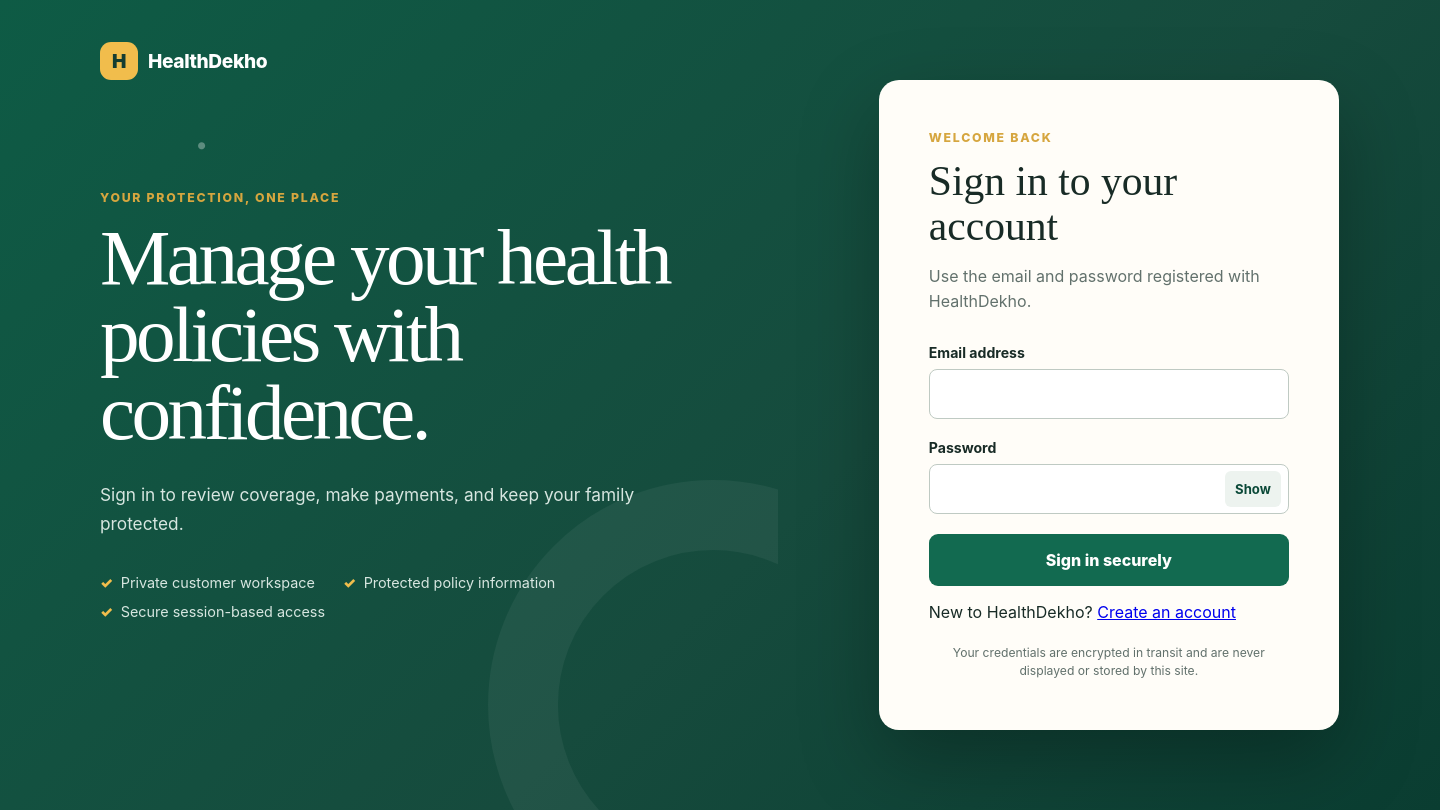
sign in › announces and disables the submit control while sign-in is pending
This screenshot has width=1440, height=810.
Later steps or results of the test are not shown.
Type "customer@example.com" into the field labelled "Email address" at (1109, 394), box left=929, top=369, right=1289, bottom=419
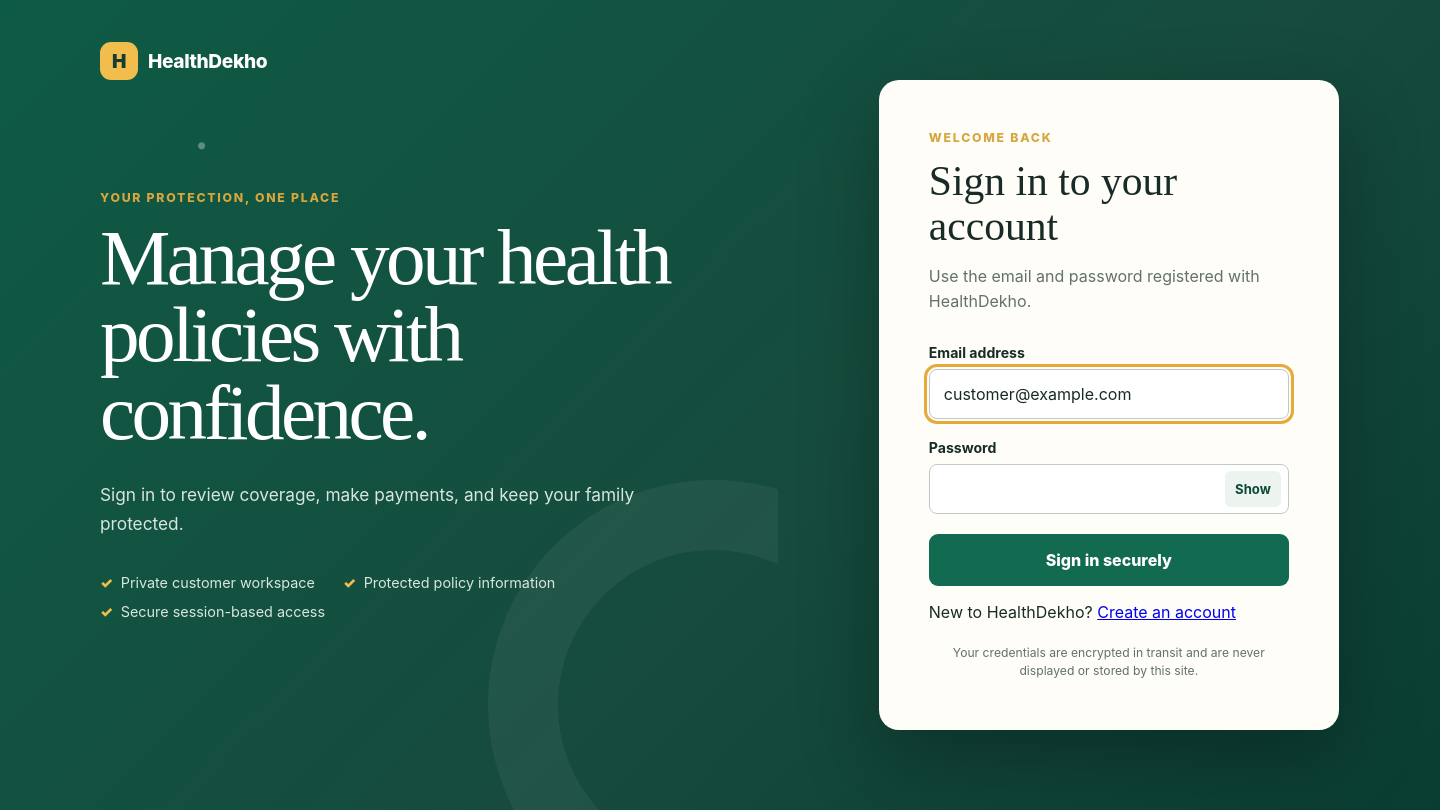
Type "valid password" into the password field labelled "Password" at (1109, 489), box left=929, top=464, right=1289, bottom=514
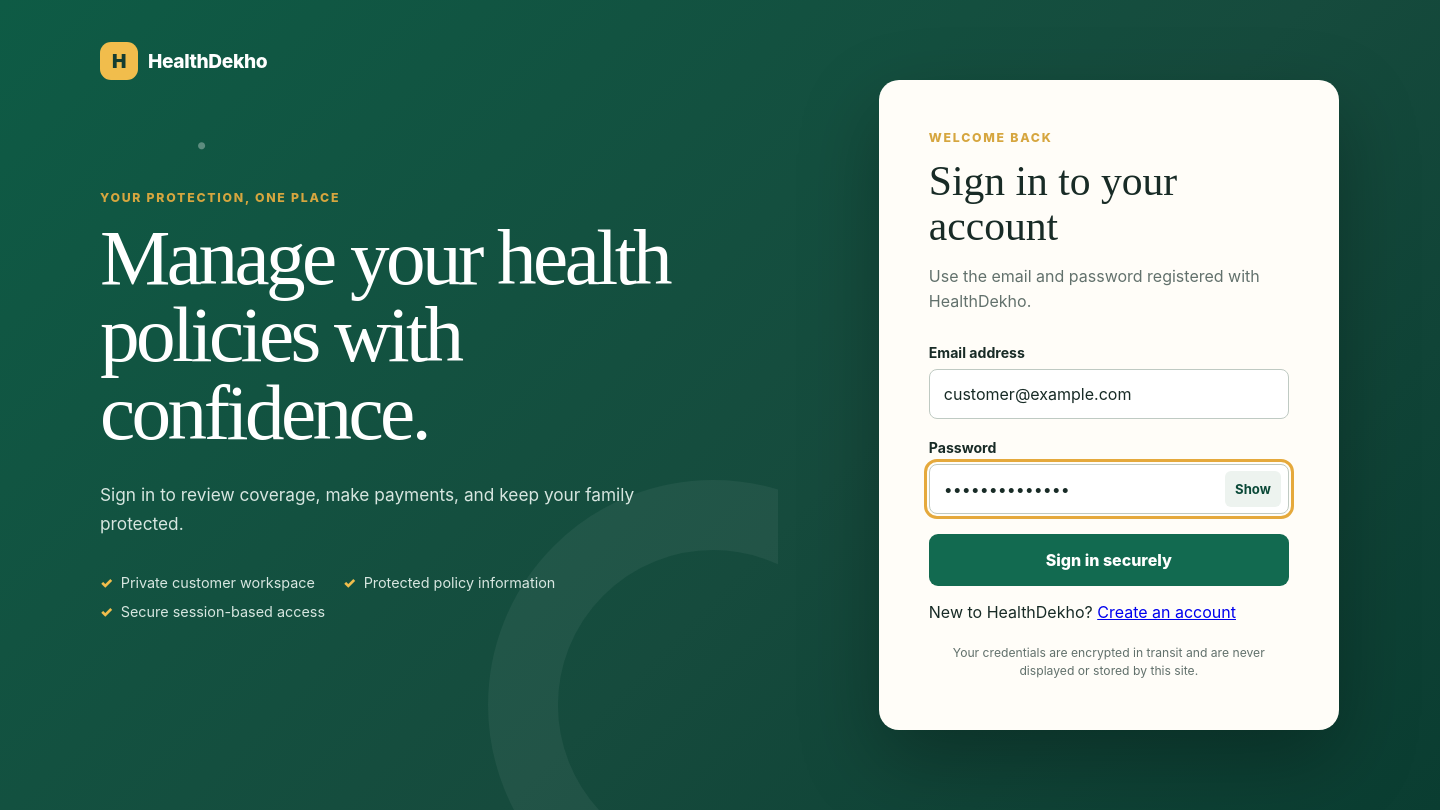
Click the button "Sign in securely" at (1109, 560), box left=929, top=534, right=1289, bottom=586
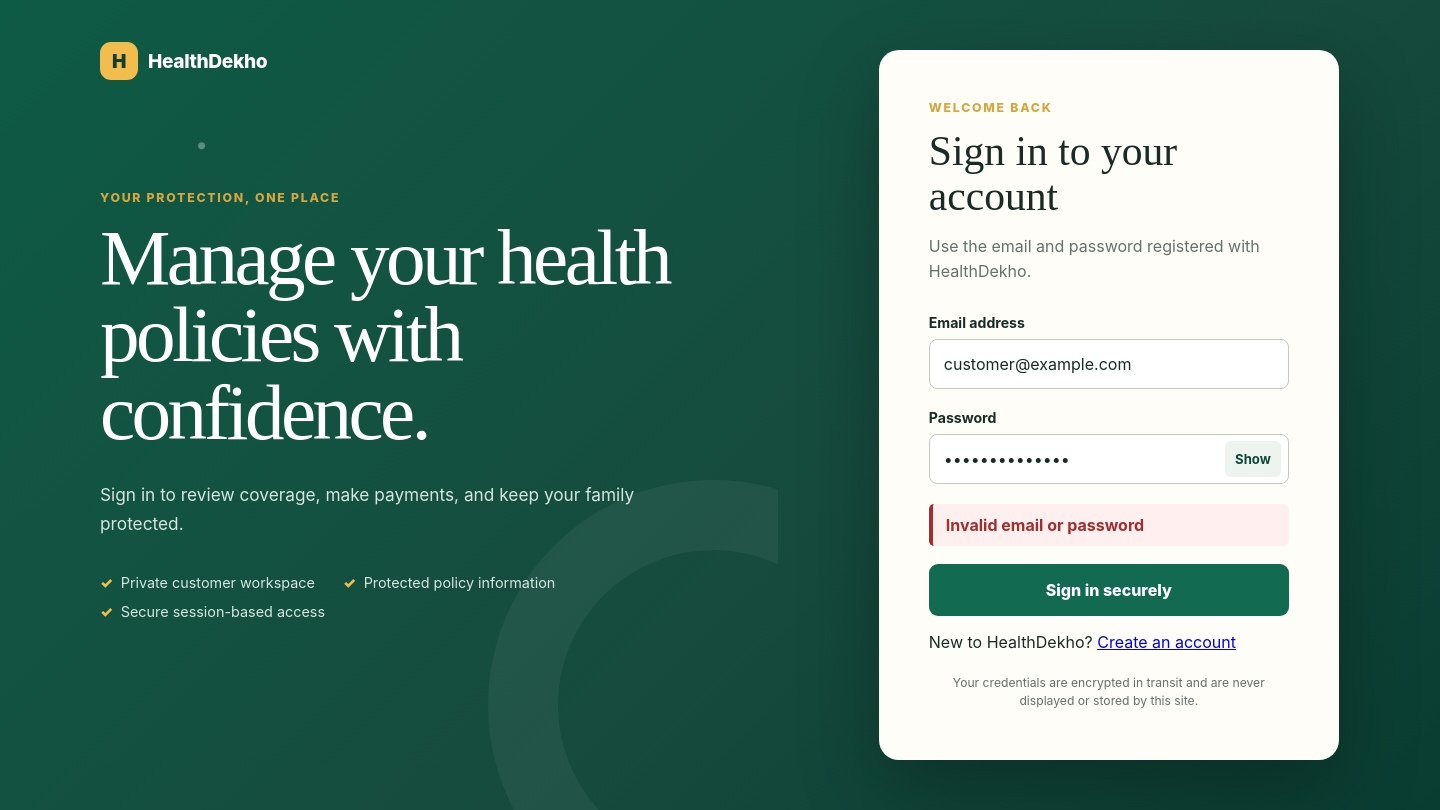
Check: the message reads "Invalid email or password", box left=946, top=515, right=1144, bottom=535
